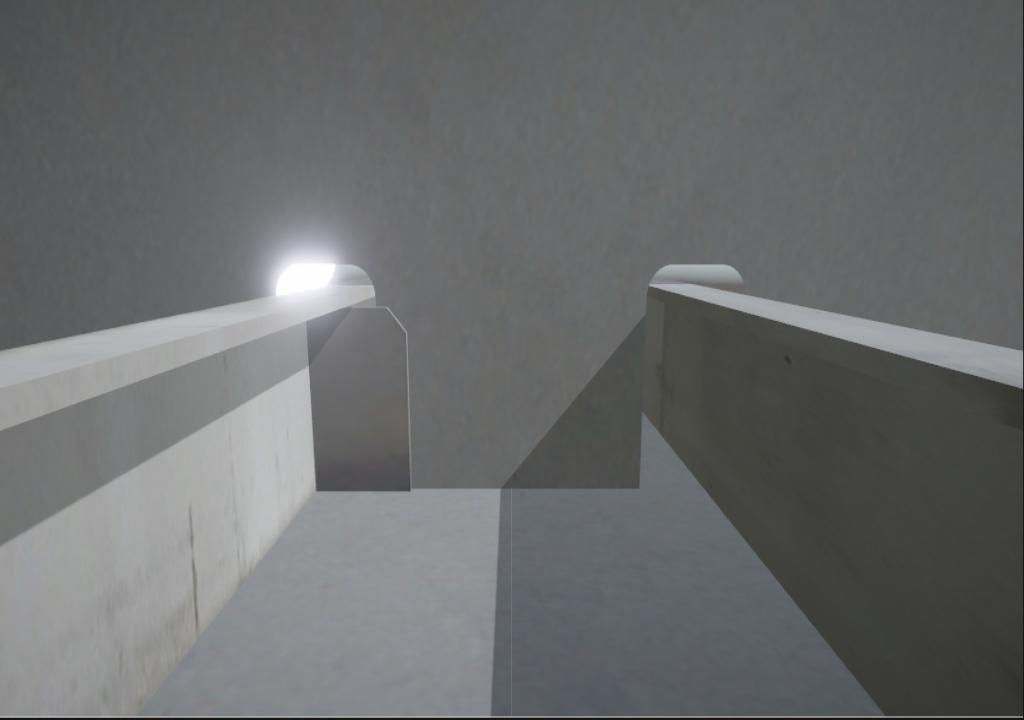fillet_yong_jeop_jang: (414, 484, 643, 494)
plate_CP03: (307, 305, 412, 490)
